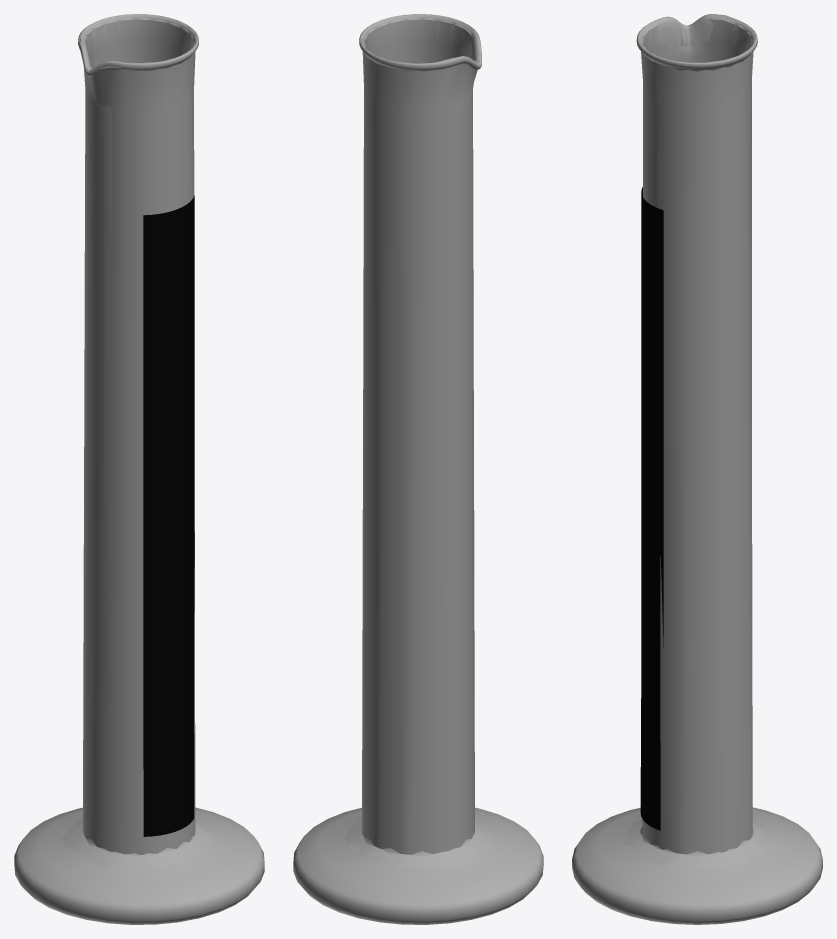
File: Graduated_Cylinder.fbx
3 views of the same model, side by side, from view 1: azimuth 30°, elevation 25°; view 2: azimuth 150°, elevation 25°; view 3: azimuth 270°, elevation 25° (orthographic).
Parts seen in each view (by area): view 1: Graduated_Cylinder_Colldr, Graduated_Cylinder_LOD0, Graduated_Cylinder_Label; view 2: Graduated_Cylinder_Colldr, Graduated_Cylinder_LOD0; view 3: Graduated_Cylinder_Colldr, Graduated_Cylinder_LOD0, Graduated_Cylinder_Label.
Part boxes in pixels (x1=…): Graduated_Cylinder_Colldr: x1=60, y1=14, x2=213, y2=869; Graduated_Cylinder_LOD0: x1=14, y1=14, x2=264, y2=924; Graduated_Cylinder_Label: x1=143, y1=195, x2=194, y2=836; Graduated_Cylinder_Colldr: x1=343, y1=14, x2=493, y2=869; Graduated_Cylinder_LOD0: x1=293, y1=14, x2=543, y2=924; Graduated_Cylinder_Colldr: x1=625, y1=14, x2=769, y2=868; Graduated_Cylinder_LOD0: x1=572, y1=14, x2=822, y2=924; Graduated_Cylinder_Label: x1=640, y1=187, x2=663, y2=830.
Size of what is drawn, in the model's own units: 3.81 by 14.03 by 3.81.
Materials: 2 (1 with a texture image).
